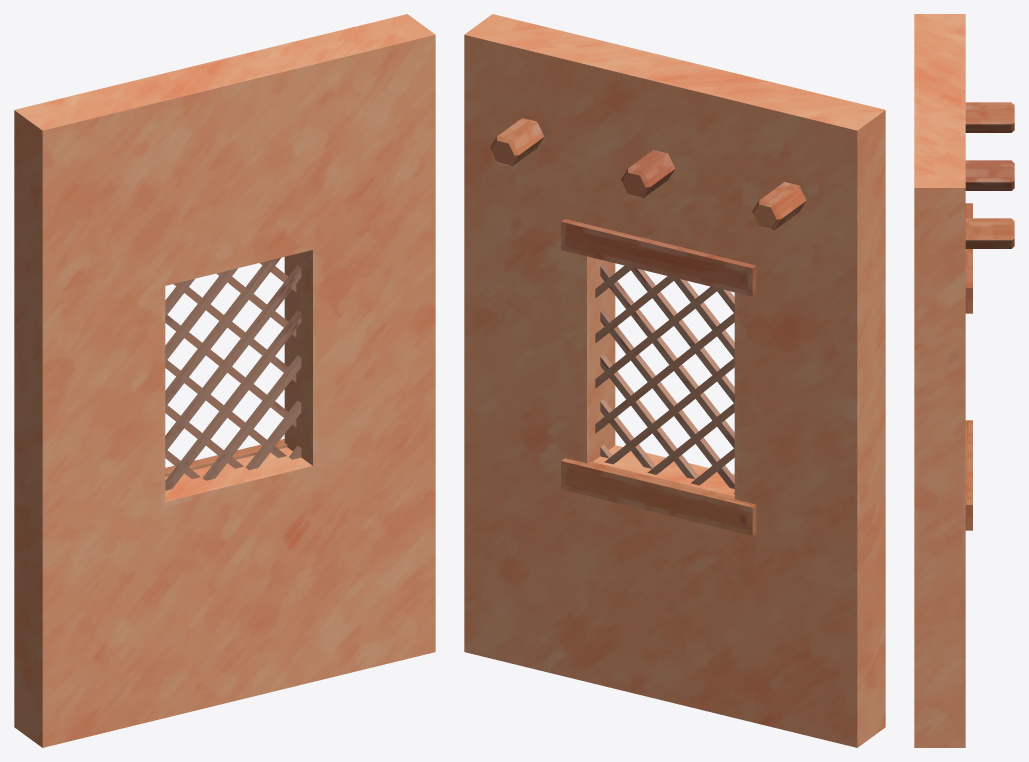
File: wall_upper_window_low.fbx
3 renders of one model, left to right at view 1: azimuth 30°, elevation 25°; view 2: azimuth 150°, elevation 25°; view 3: azimuth 270°, elevation 25°, orthographic. The views are drawn at different scales.
Parts seen in each view (by area): view 1: wall_upper_window; view 2: wall_upper_window; view 3: wall_upper_window.
Part boxes in pixels (left/top/right/bottom): wall_upper_window: left=14, top=14, right=435, bottom=747; wall_upper_window: left=464, top=14, right=885, bottom=747; wall_upper_window: left=914, top=14, right=1014, bottom=747.
Bounding box in the file's own units: 8 × 12 × 1.95.
Materials: 1 (1 with a texture image).
